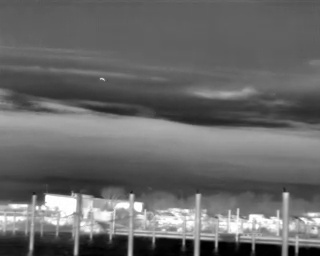BIRD: (98, 74, 108, 85)
